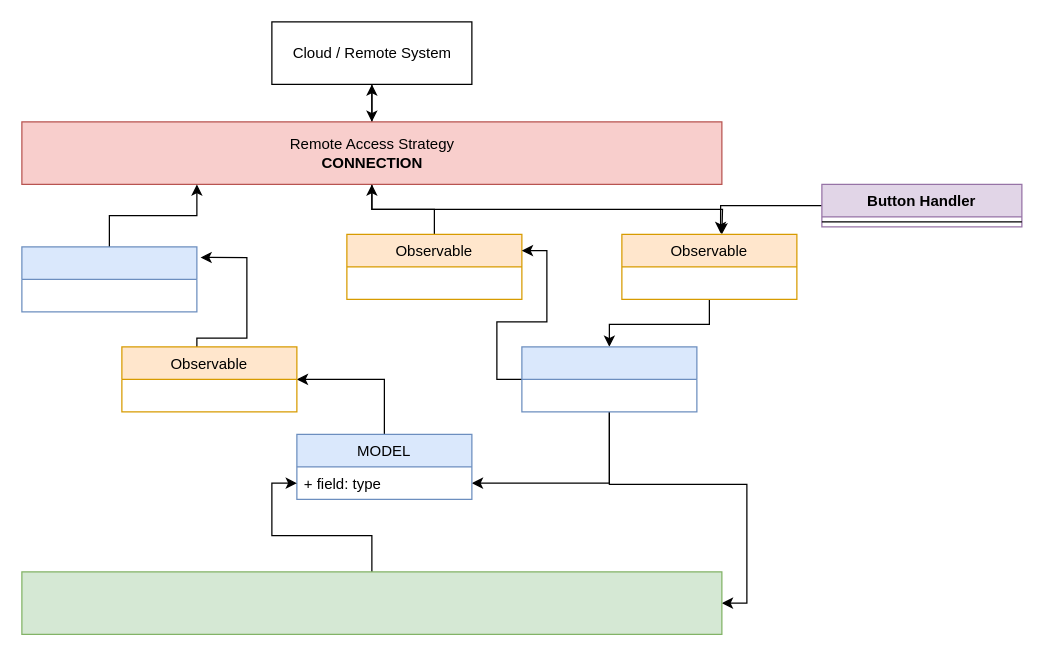
Some shapes in this 1044 by 656 pixel diagram are drawn without their labels. Each missing label, with the centre of its shape:
CONTROLLER: the point at 609,379
System Facade HAL: the point at 371,602
VIEW: the point at 109,279
